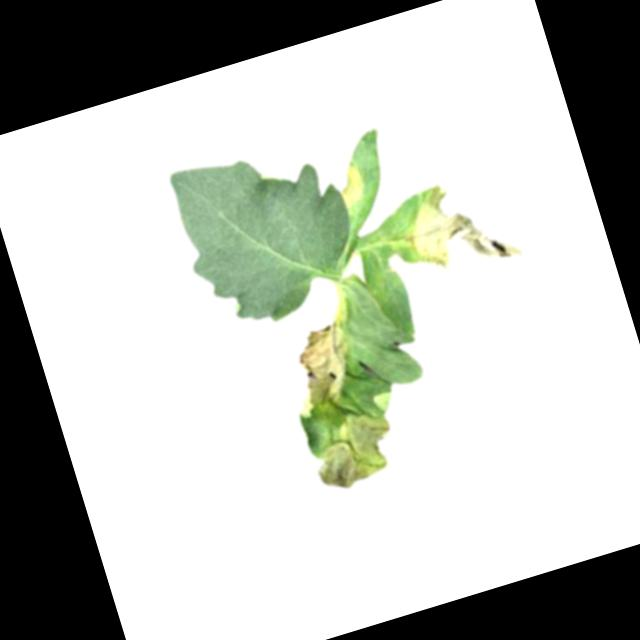Late_blight: (389, 165, 527, 292), (299, 391, 414, 497), (273, 319, 370, 425), (331, 156, 369, 206)
healthy: (162, 126, 370, 341)
